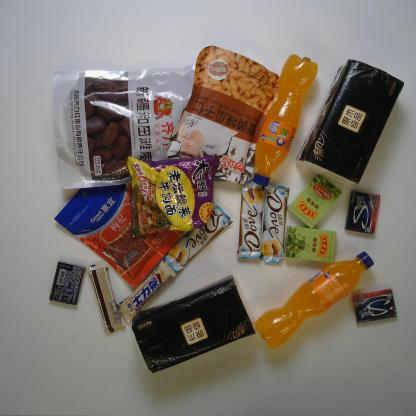Candy: (286, 172, 343, 229), (284, 225, 337, 264)
Chocolate: (163, 204, 234, 272), (116, 258, 177, 328), (86, 260, 127, 336), (258, 184, 290, 264), (236, 179, 266, 260)
Dried Food: (51, 62, 196, 190)
Dried Fruit: (166, 44, 280, 186), (53, 182, 186, 289)
Drink: (254, 250, 374, 350), (251, 53, 319, 187)
Gum: (48, 260, 86, 306), (344, 188, 381, 235), (350, 288, 398, 324)
Instant Noodles: (126, 152, 221, 239)
Tissue: (294, 57, 406, 186), (131, 273, 257, 375)
